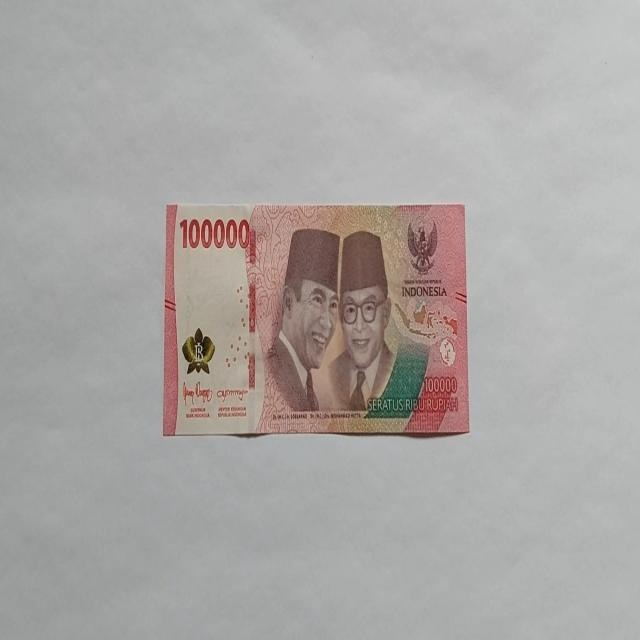seratus ribu rupiah: (162, 201, 470, 437)
